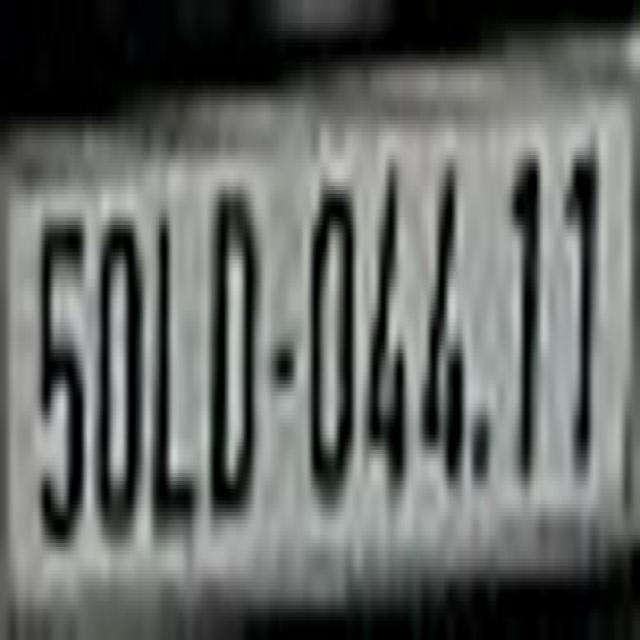0: (307, 163, 355, 512), (94, 194, 141, 547)
1: (560, 128, 603, 485), (506, 116, 545, 492)
4: (362, 132, 413, 516), (422, 147, 465, 512)
5: (38, 202, 88, 562)
D: (207, 167, 260, 535)
L: (150, 202, 203, 535)
